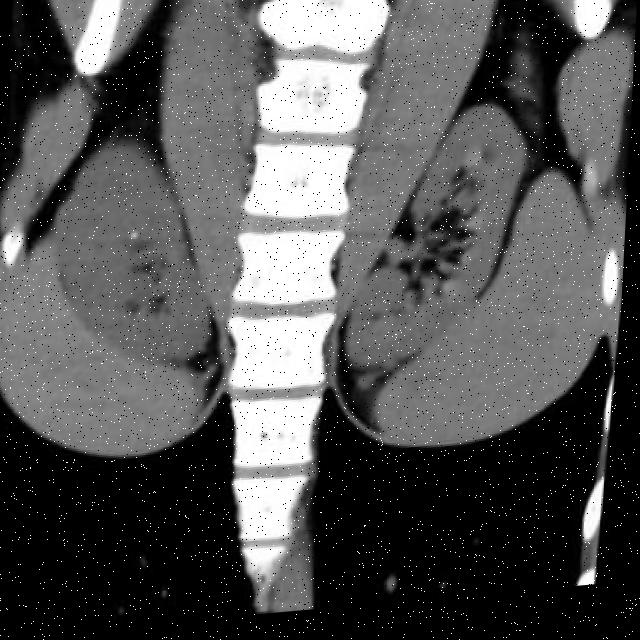Tas_Var: (129, 231, 142, 244)
